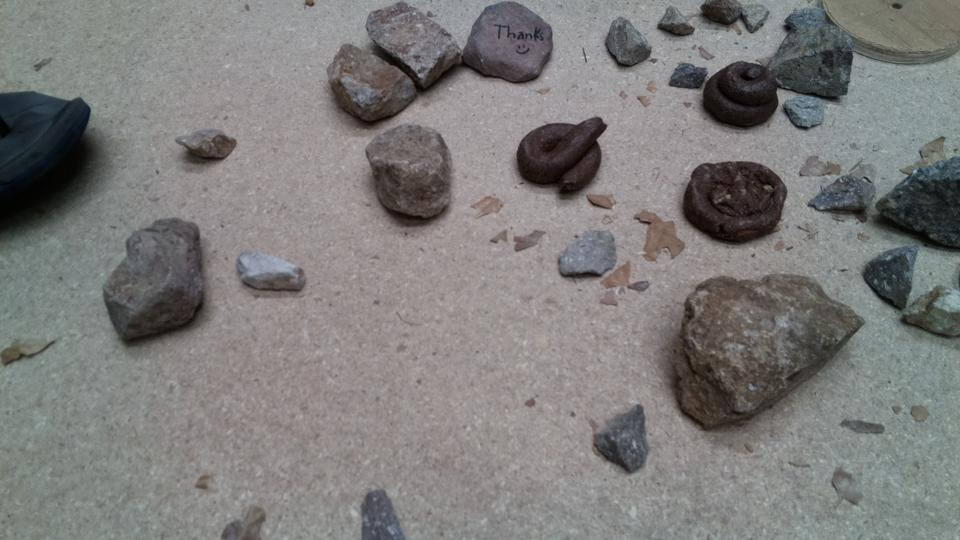poop: (680, 158, 791, 243), (515, 117, 610, 197), (701, 59, 778, 130)
